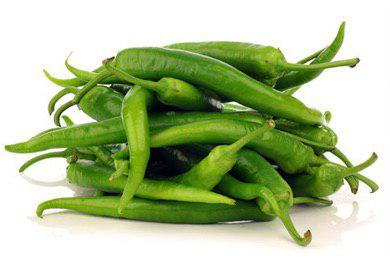lada hijau: (102, 41, 319, 123), (152, 115, 315, 169), (29, 191, 273, 225), (1, 110, 128, 160), (70, 163, 221, 205), (117, 86, 153, 215)
